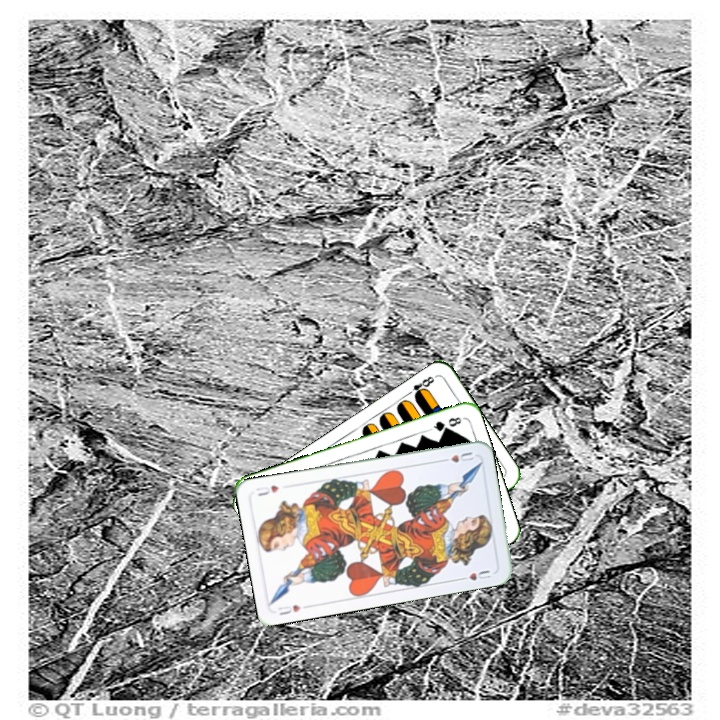E8: (402, 372, 437, 401)
G8: (426, 413, 464, 434)
HU: (436, 448, 476, 465), (275, 601, 303, 618)
